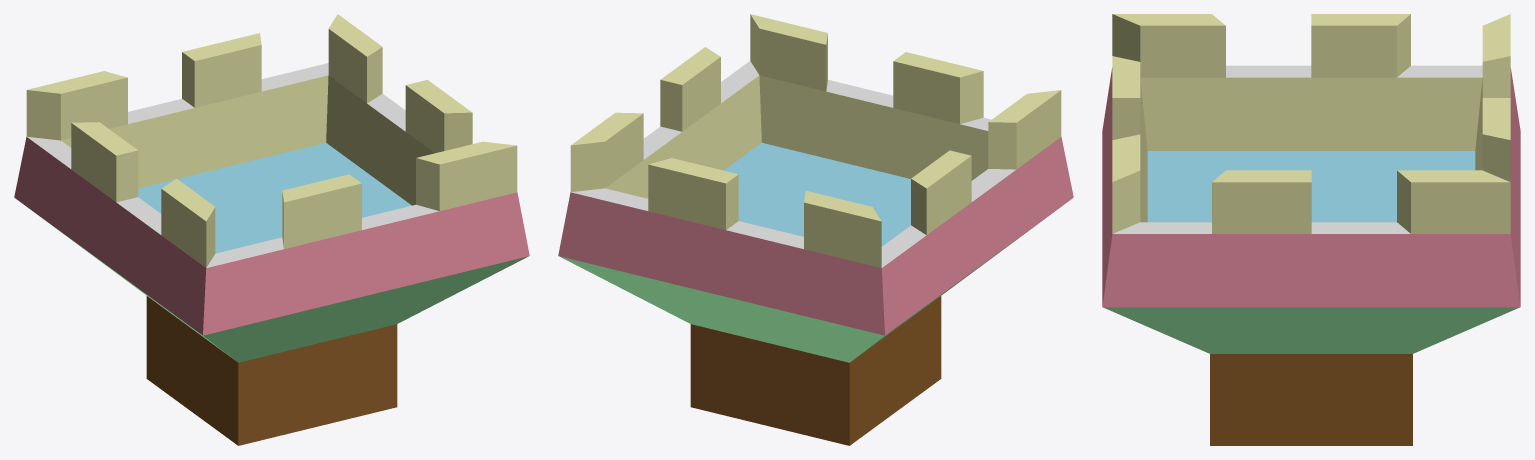
Rendered from tower.glb.
3 renders of one model, left to right at view 1: azimuth 30°, elevation 25°; view 2: azimuth 150°, elevation 25°; view 3: azimuth 270°, elevation 25°, orthographic. The views are drawn at different scales.
Parts seen in each view (by area): view 1: Tower; view 2: Tower; view 3: Tower.
Boxes of the visible parts, bbox=[...] form: Tower: bbox=[14, 14, 529, 445]; Tower: bbox=[558, 14, 1073, 445]; Tower: bbox=[1102, 14, 1520, 445].
Size of the model in its own units: 4.11 by 3.31 by 4.11.
